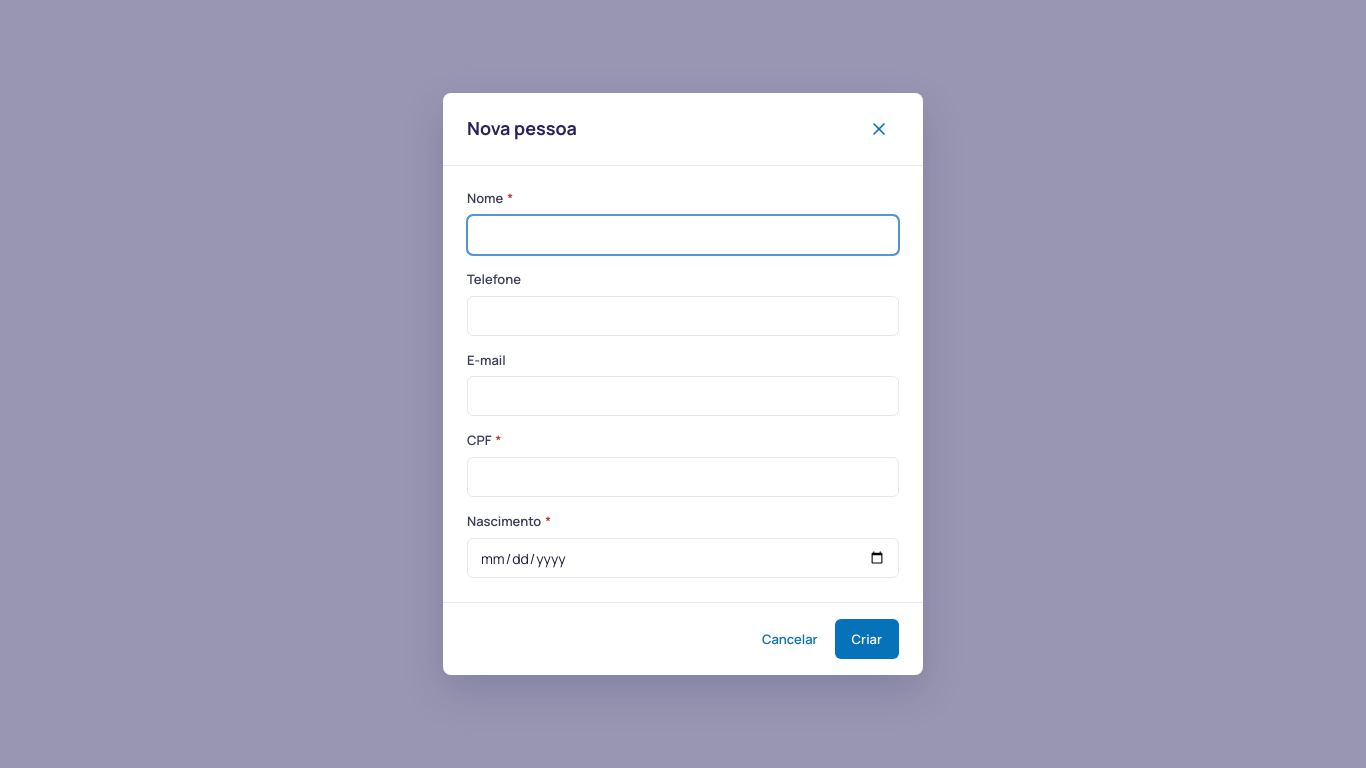
it: 409 (CPF já cadastrado) vai para o campo CPF
Type "Carlos Mendes" into the field labelled "Nome *" at (683, 235), box 467,215 -> 899,255
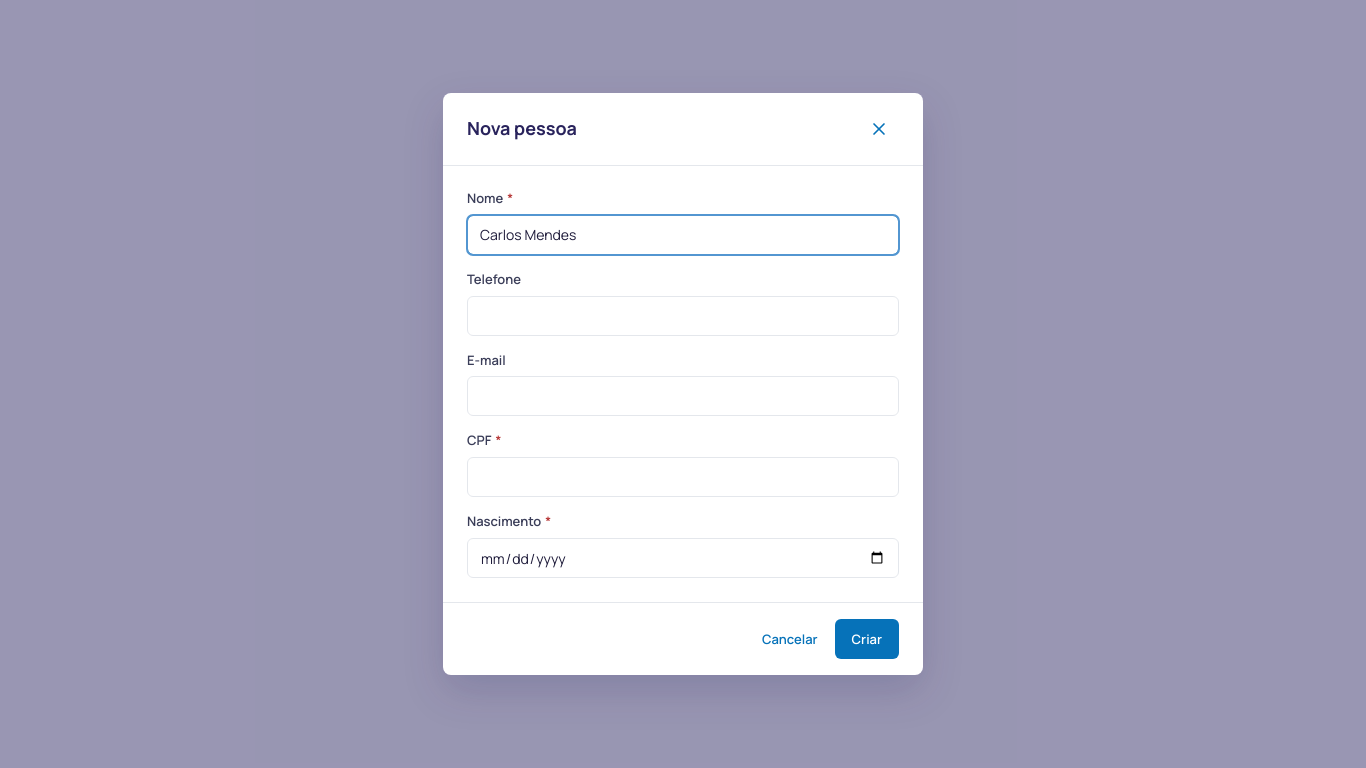
Type "52998224725" into the field labelled "CPF *" at (683, 477), box 467,457 -> 899,497
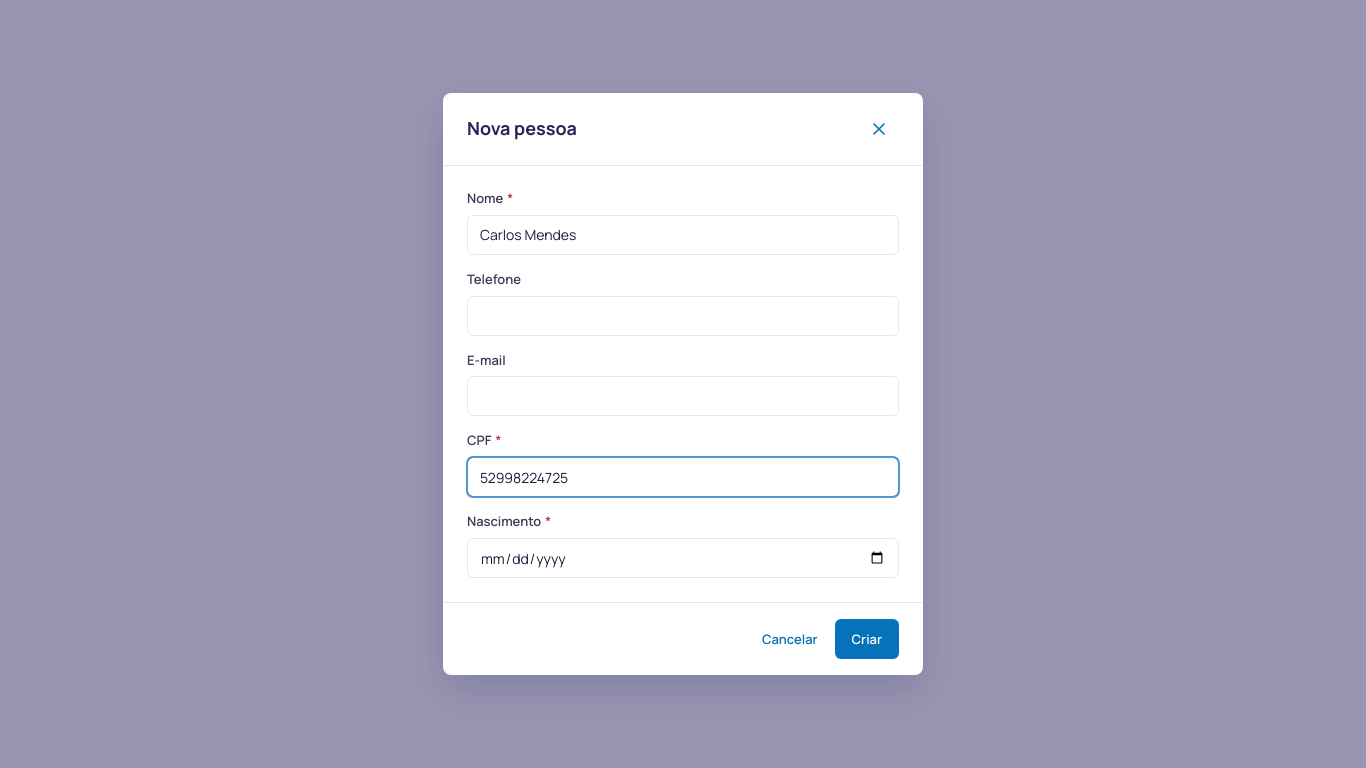
Type "1980-05-05" into the date field labelled "Nascimento *" at (683, 558), box 467,538 -> 899,578
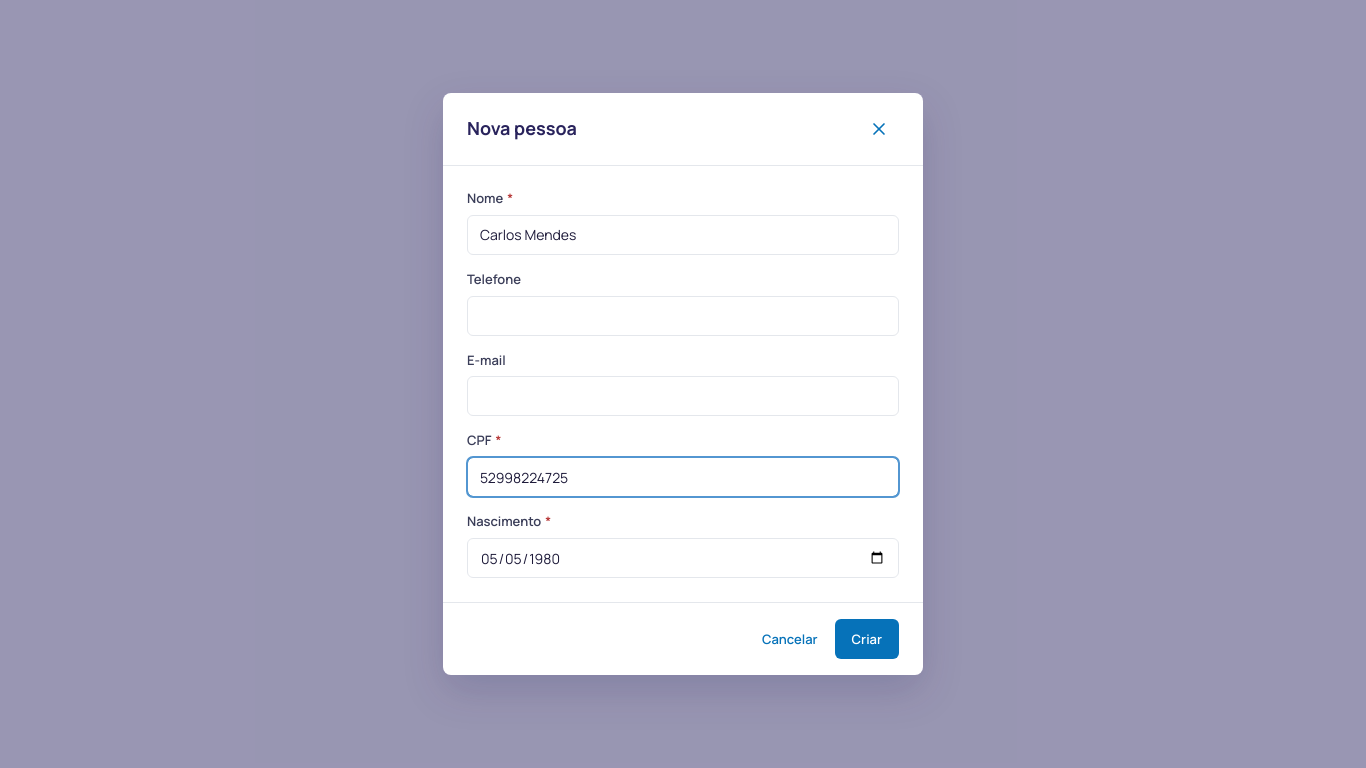
Click the button "Criar" at (867, 639), box 835,619 -> 899,659
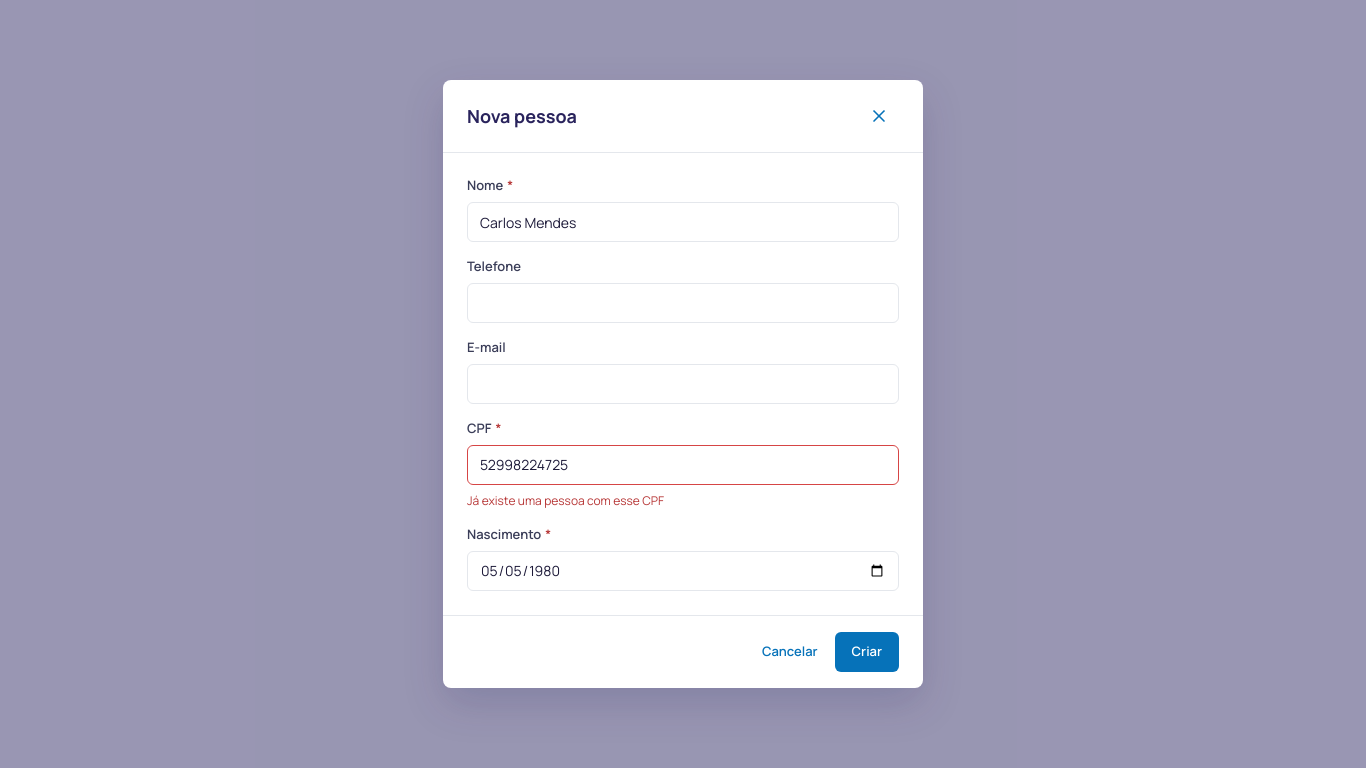
Expected: the text "Já existe uma pessoa com esse CPF" is shown, 467,492 -> 664,509
